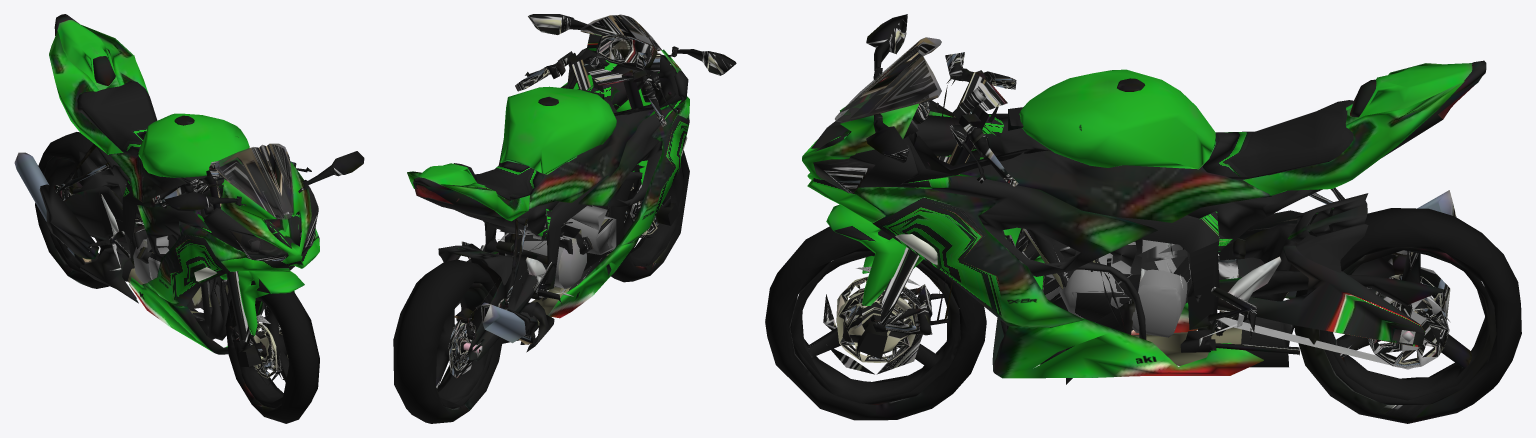
3 renders of one model, left to right at view 1: azimuth 30°, elevation 25°; view 2: azimuth 150°, elevation 25°; view 3: azimuth 270°, elevation 25°, orthographic. The views are drawn at different scales.
Parts seen in each view (by area): view 1: Tank, Front Wheel, Front Side Panel, Front Panel, Windshield, Plane, Seat, Mid Side Panel, Rear Wheel, Front Rim, Rear Wheel Holder Right, Under Panel (+22 smaller); view 2: Rear Wheel, Tank, Side Panel, Mid Side Panel, Rear Rim, Front Side Panel, Front Wheel, Rear Wheel Holder Right, Front Rim, Under Panel, Plate with holes, Seat (+34 smaller); view 3: Tank, Rear Wheel, Front Side Panel, Front Wheel, Side Panel, Under Panel, Mid Side Panel, Rear Rim, Rear Wheel Holder Left, Front Rim, Seat, Plane (+32 smaller).
Boxes of the visible parts, x1,y1,x2,y2 form: Tank: (138,113,249,177); Front Wheel: (225,280,319,423); Front Side Panel: (148,221,319,307); Front Panel: (221,162,319,271); Windshield: (215,143,293,219); Plane: (49,25,148,154); Seat: (77,81,157,155); Mid Side Panel: (137,186,318,261); Rear Wheel: (35,132,142,288); Front Rim: (232,297,289,408); Rear Wheel Holder Right: (64,186,137,246); Under Panel: (129,277,264,354); Rear Wheel: (393,259,502,423); Tank: (500,86,616,174); Side Panel: (499,109,654,209); Mid Side Panel: (560,48,688,206); Rear Rim: (436,283,494,408); Front Side Panel: (619,100,689,245); Front Wheel: (607,150,689,282); Rear Wheel Holder Right: (468,251,547,361); Front Rim: (623,163,683,266); Under Panel: (548,237,639,318); Plate with holes: (484,161,605,301); Seat: (475,161,543,200); Tank: (1019,69,1215,169); Rear Wheel: (1294,208,1521,423); Front Side Panel: (854,157,1084,327); Front Wheel: (765,226,986,420); Side Panel: (960,149,1271,222); Under Panel: (992,255,1263,378); Mid Side Panel: (849,145,1157,276); Rear Rim: (1319,247,1496,404); Rear Wheel Holder Left: (1217,245,1425,347); Front Rim: (790,251,960,404); Seat: (1202,100,1353,179); Plane: (1243,63,1464,195).
Size of the model in its own units: 0.8861 by 1.13 by 2.06.
Materials: 4 (4 with a texture image).
